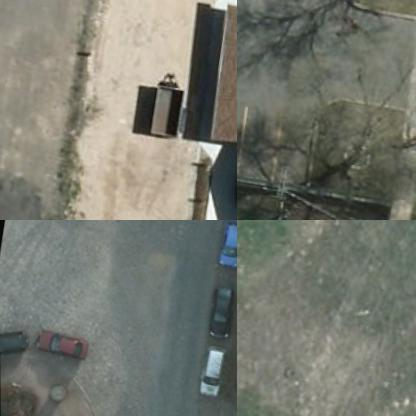car: (34, 322, 89, 363), (202, 283, 236, 337), (192, 344, 226, 396), (0, 323, 30, 363), (214, 220, 236, 267)
